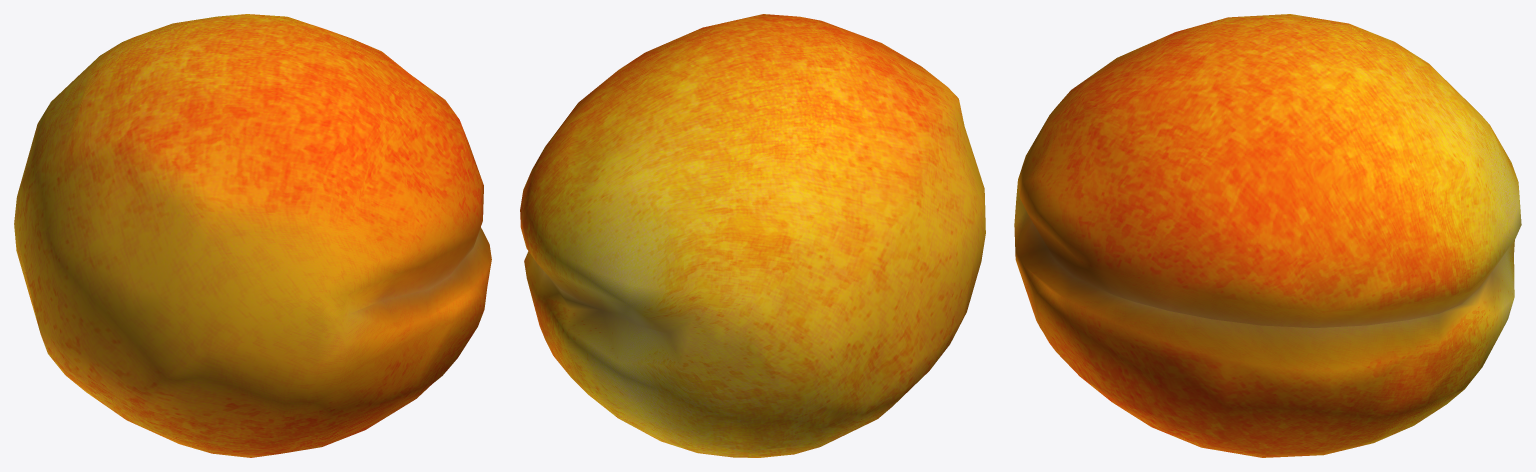
The model's file is Apricot.FBX.
3 views of the same model, side by side, from view 1: azimuth 30°, elevation 25°; view 2: azimuth 150°, elevation 25°; view 3: azimuth 270°, elevation 25° (orthographic). The views are drawn at different scales.
Visible parts, largest first — view 1: apricot; view 2: apricot; view 3: apricot.
Boxes of the visible parts, left/top/right/bottom form: apricot: left=14, top=14, right=491, bottom=457; apricot: left=520, top=14, right=985, bottom=457; apricot: left=1014, top=14, right=1521, bottom=457.
Bounding box in the file's own units: 9.28 × 8.73 × 10.17.
Materials: 1 (1 with a texture image).
